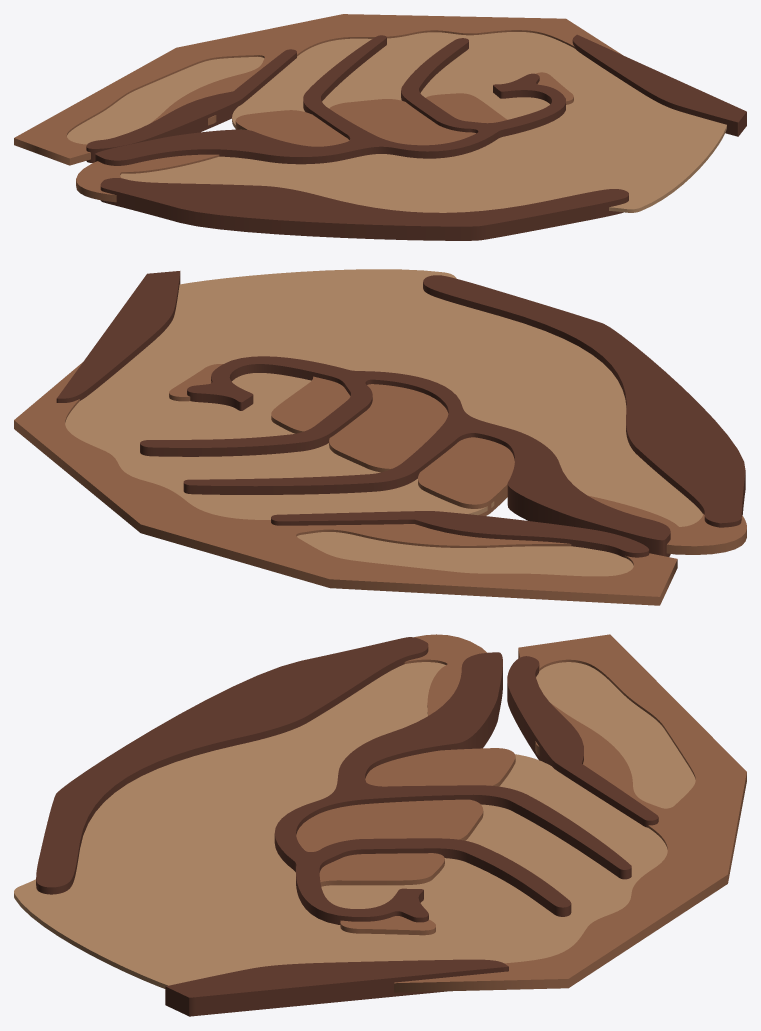
Rendered from emoji_u1f90f_1f3fd.glb.
3 views of the same model, one above another, from view 1: azimuth 30°, elevation 25°; view 2: azimuth 150°, elevation 25°; view 3: azimuth 270°, elevation 25° (orthographic). The views are drawn at different scales.
Visible parts, largest first — view 1: emoji_u1f90f_1f3fd; view 2: emoji_u1f90f_1f3fd; view 3: emoji_u1f90f_1f3fd.
Part boxes in pixels (box(x1,y1,x2,y2)): emoji_u1f90f_1f3fd: box(14, 14, 746, 240); emoji_u1f90f_1f3fd: box(14, 269, 746, 605); emoji_u1f90f_1f3fd: box(14, 634, 746, 1016).
Size of the model in its own units: 0.0336 by 0.001 by 0.0283.
